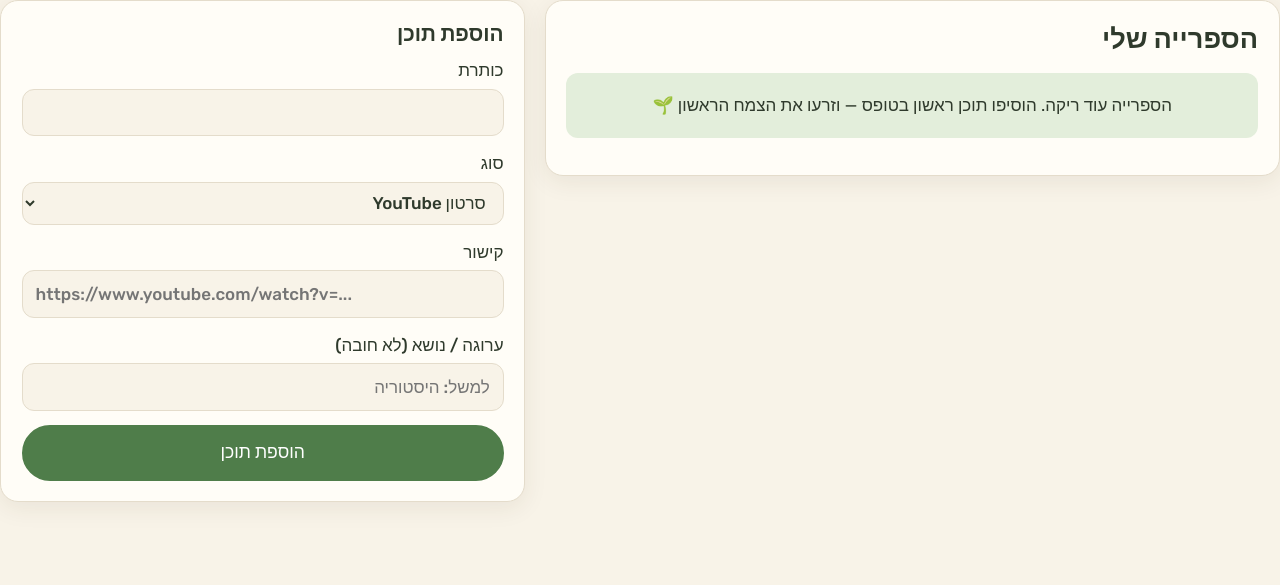
Test: Library › empty state, add (with the server's validation message), list, delete
Check: the text "הספרייה עוד ריקה" is shown, box top-left (652, 95), bottom-right (1172, 115)
Click the button "הוספת תוכן" at [263, 453], box top-left (22, 425), bottom-right (504, 481)
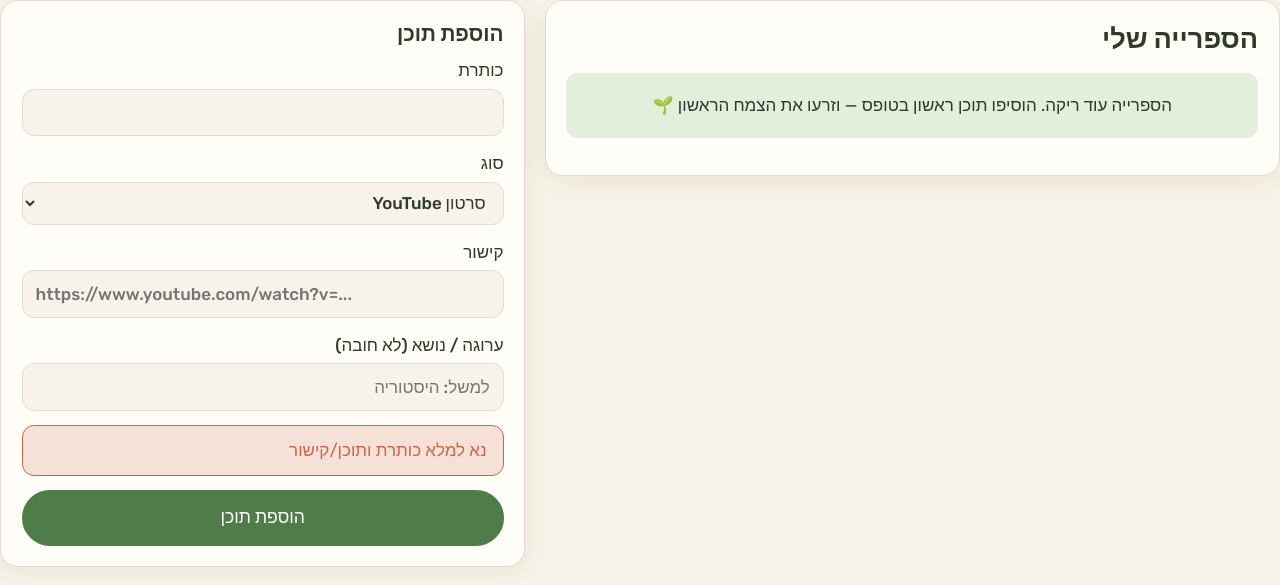
Check: the message reads "נא למלא כותרת ותוכן/קישור", box top-left (289, 440), bottom-right (486, 460)
Type "שיעור" into the field labelled "כותרת" at [263, 112], box top-left (22, 88), bottom-right (504, 136)
Type "https://bad" into the field labelled "קישור" at [263, 294], box top-left (22, 270), bottom-right (504, 318)
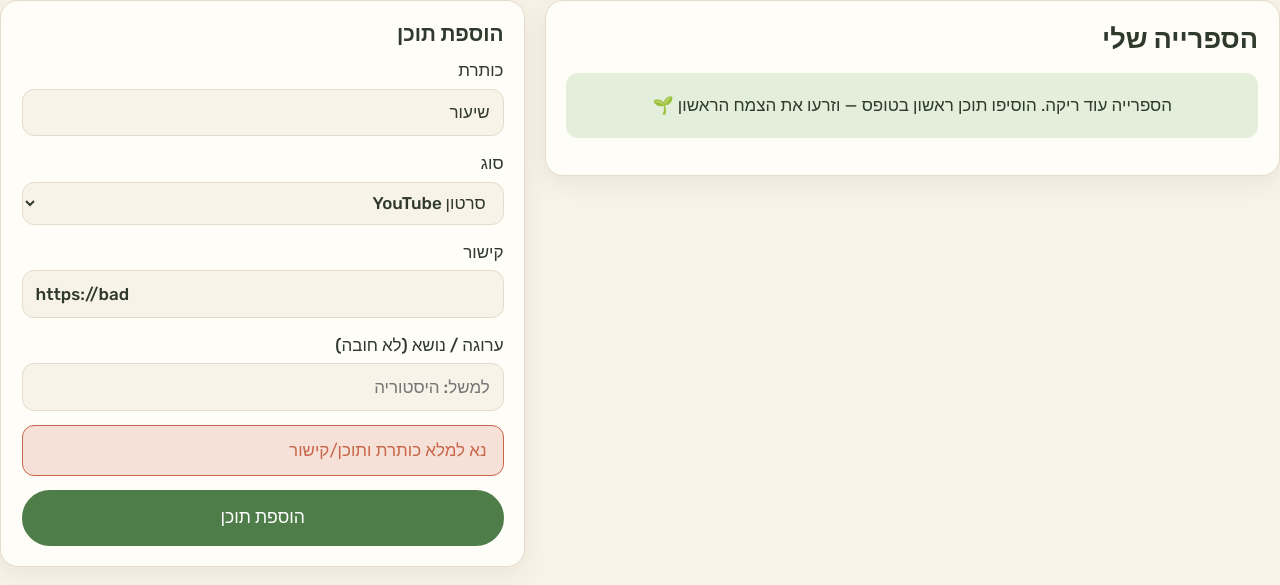
Click the button "הוספת תוכן" at [263, 518], box top-left (22, 490), bottom-right (504, 546)
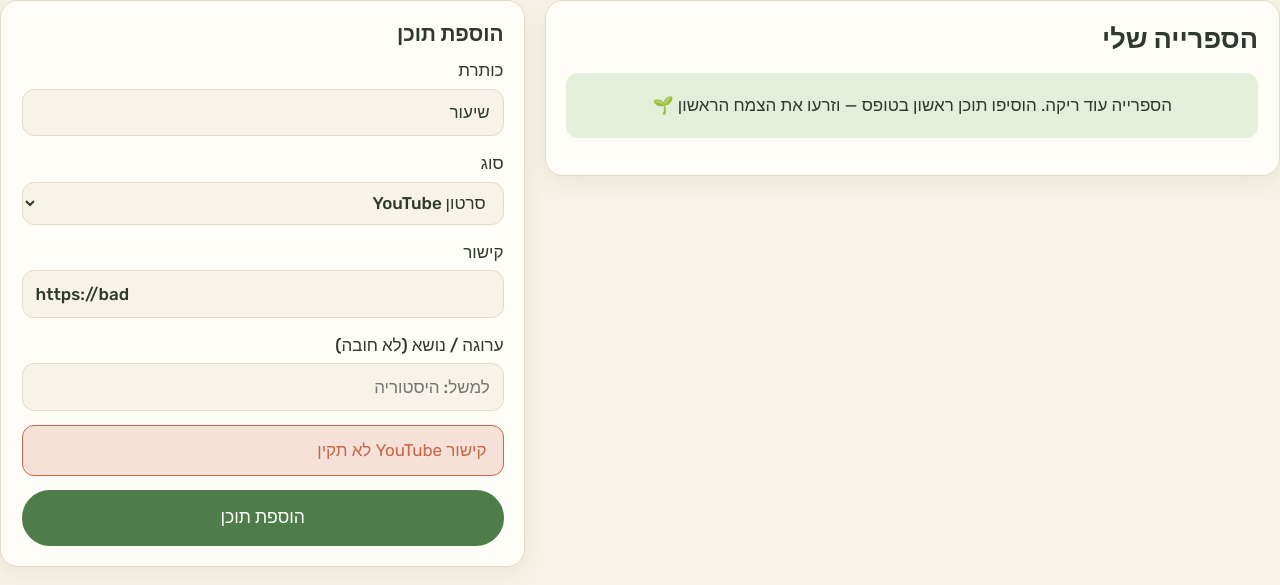
Check: the text "קישור YouTube לא תקין" is shown, box top-left (22, 425), bottom-right (504, 476)
Replace the text in the field labelled "קישור" with "https://youtu.be/aqz-KE-bpKQ" at [263, 294], box top-left (22, 270), bottom-right (504, 318)
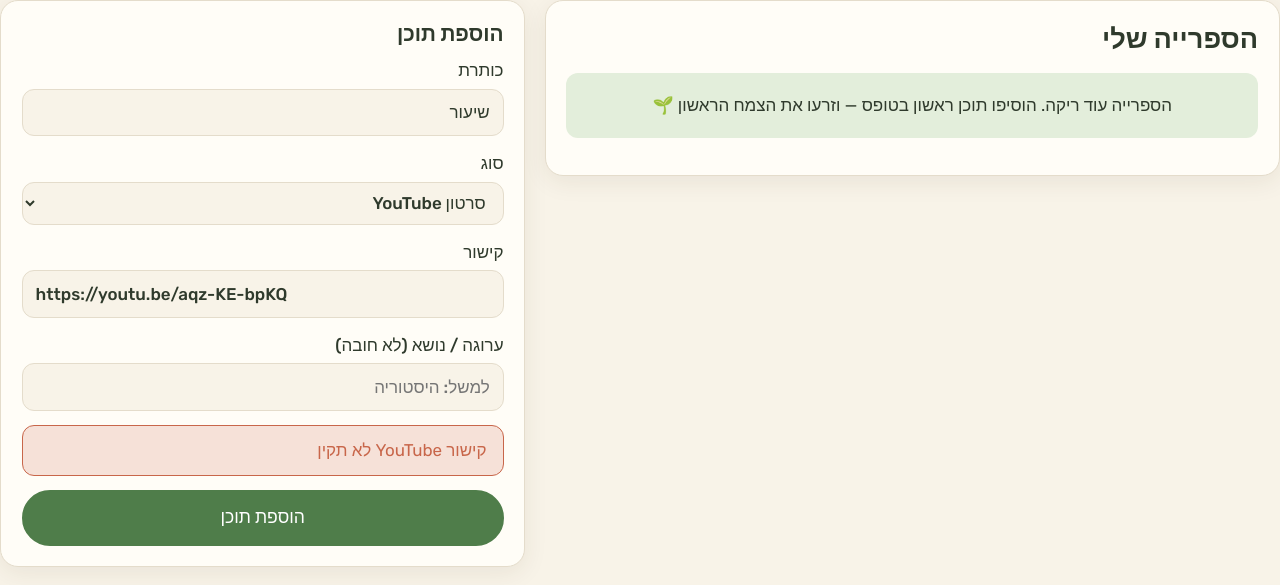
Click the button "הוספת תוכן" at [263, 518], box top-left (22, 490), bottom-right (504, 546)
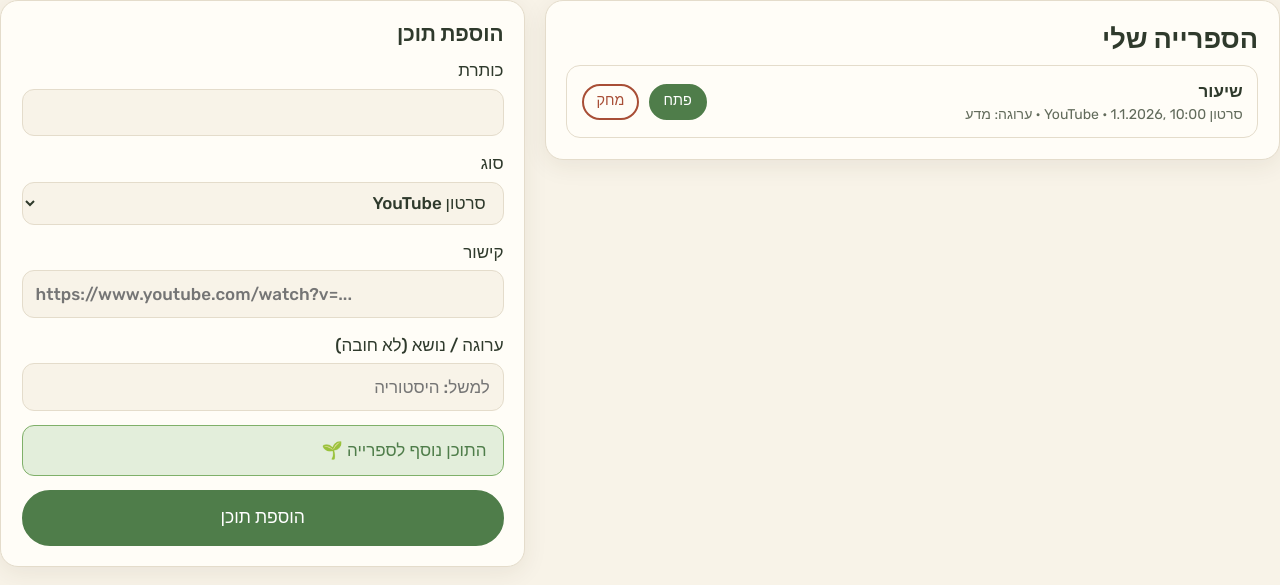
Check: the text "התוכן נוסף לספרייה 🌱" is shown, box top-left (22, 425), bottom-right (504, 476)
Check: the list named "רשימת תוכן" is shown, box top-left (566, 65), bottom-right (1258, 138)
Click the button "מחק" at [610, 102], box top-left (582, 84), bottom-right (639, 120)
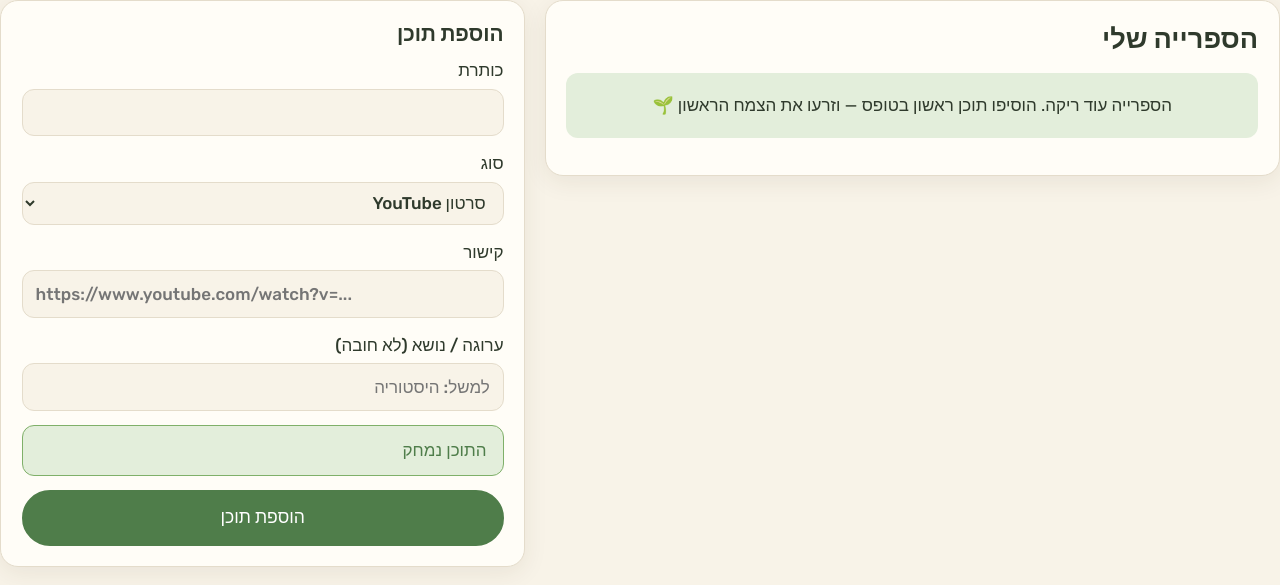
Check: the text "הספרייה עוד ריקה" is shown, box top-left (652, 95), bottom-right (1172, 115)
